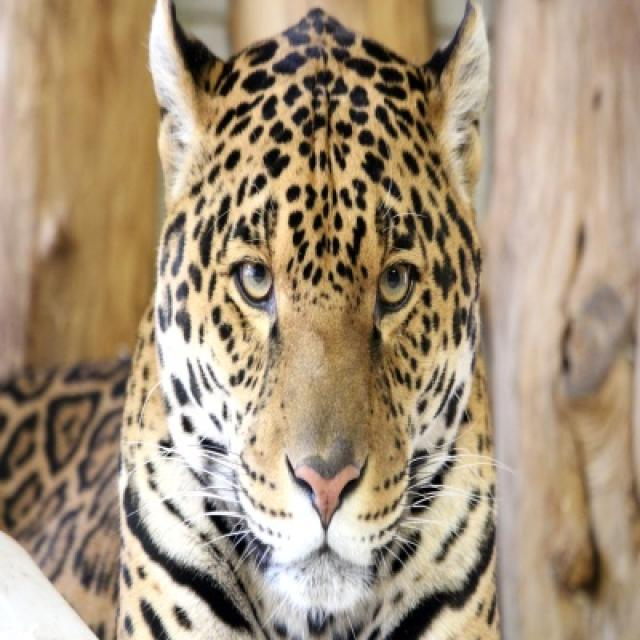Jaguar: (106, 2, 502, 638)
